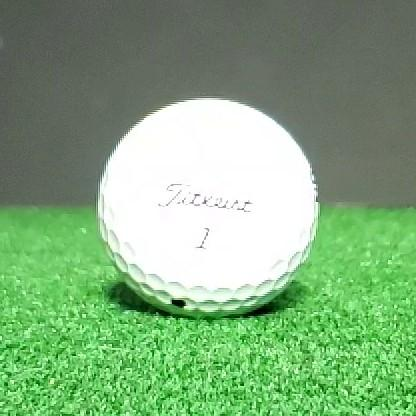golfball: (97, 99, 319, 318)
